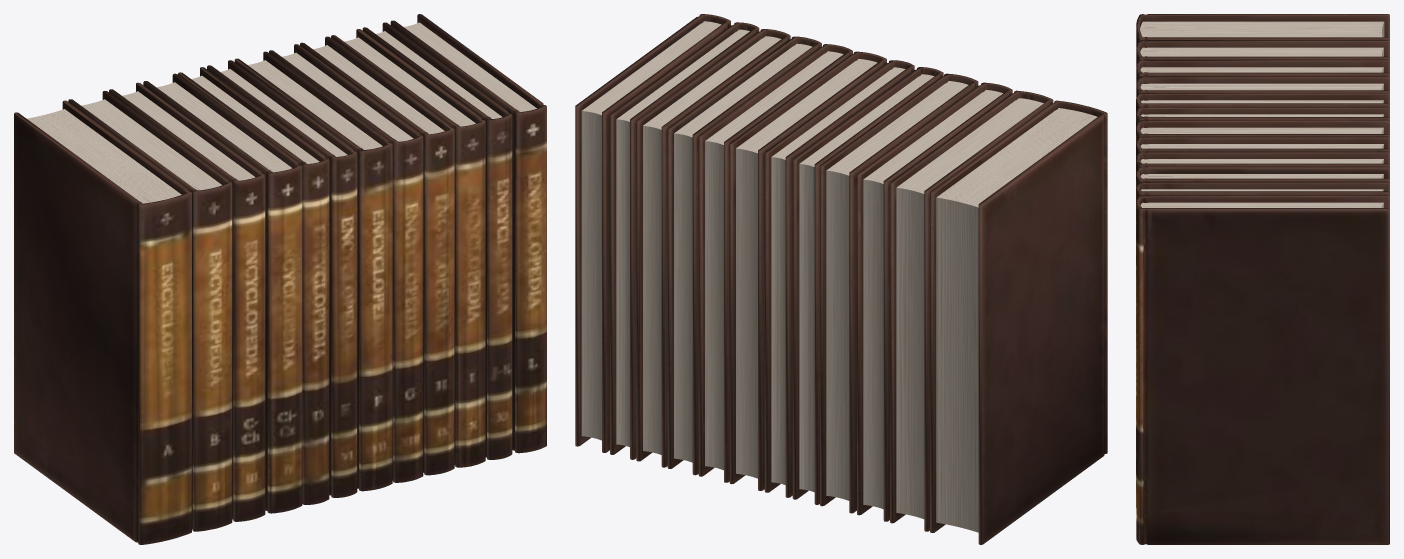
The model's file is book_encyclopedia_set_01.glb.
3 renders of one model, left to right at view 1: azimuth 30°, elevation 25°; view 2: azimuth 150°, elevation 25°; view 3: azimuth 270°, elevation 25°, orthographic.
Visible parts, largest first — view 1: book_encyclopedia_set_01_book01; view 2: book_encyclopedia_set_01_book01; view 3: book_encyclopedia_set_01_book01.
Part boxes in pixels (bbox=[...]): book_encyclopedia_set_01_book01: bbox=[14, 14, 546, 544]; book_encyclopedia_set_01_book01: bbox=[575, 14, 1107, 544]; book_encyclopedia_set_01_book01: bbox=[1136, 14, 1389, 544].
Bounding box in the file's own units: 0.2984 × 0.2374 × 0.1631.
Materials: 2 (2 with a texture image).
